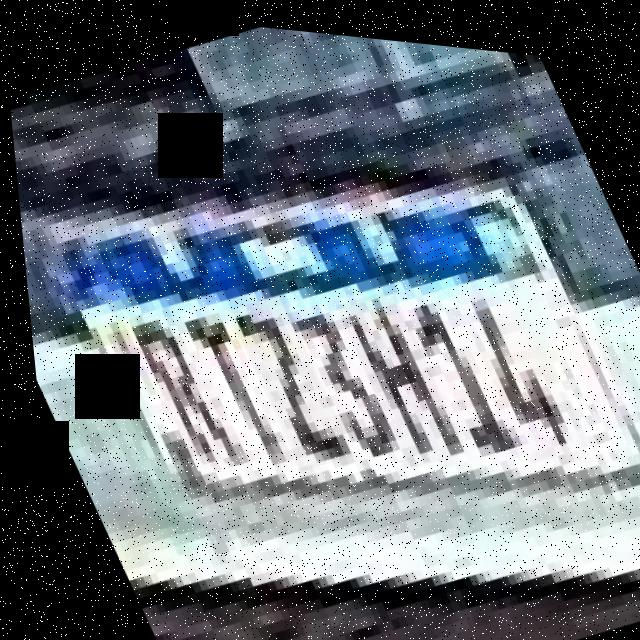3: (280, 282, 408, 471)
4: (451, 270, 582, 455)
H: (330, 276, 461, 465)
R: (121, 300, 237, 472)
T: (172, 289, 289, 469)
Z: (219, 283, 350, 470)
